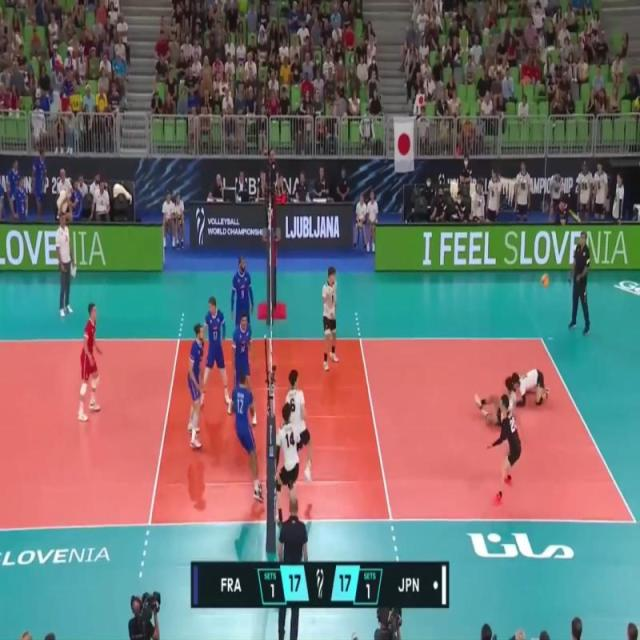volleyball: (542, 272, 550, 286)
